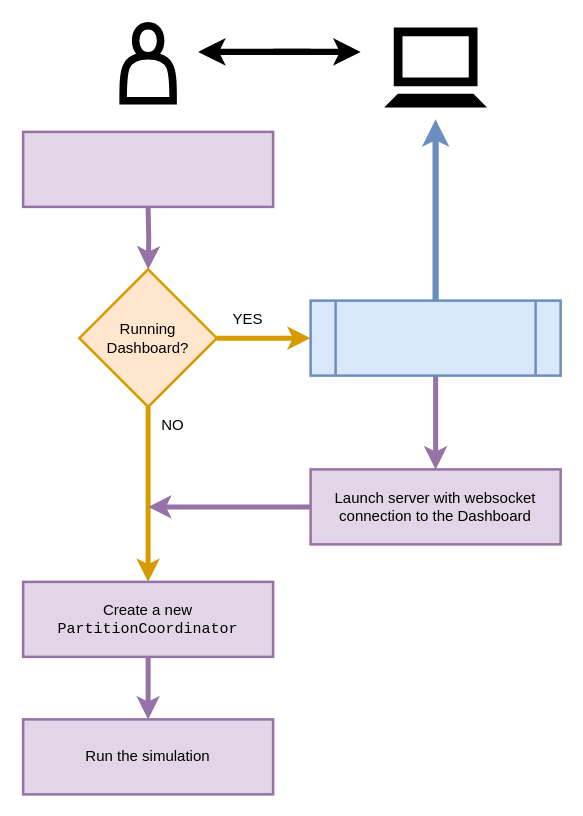
This 583x816 diagram has some shape labels left out. The shapes that lost their labels are listed below. From the top down, each one's centre as x and y in pixels, then its label:
pixel 147 169: Pass in configuration files
pixel 435 337: Launch Dashboard app as a subprocesss
